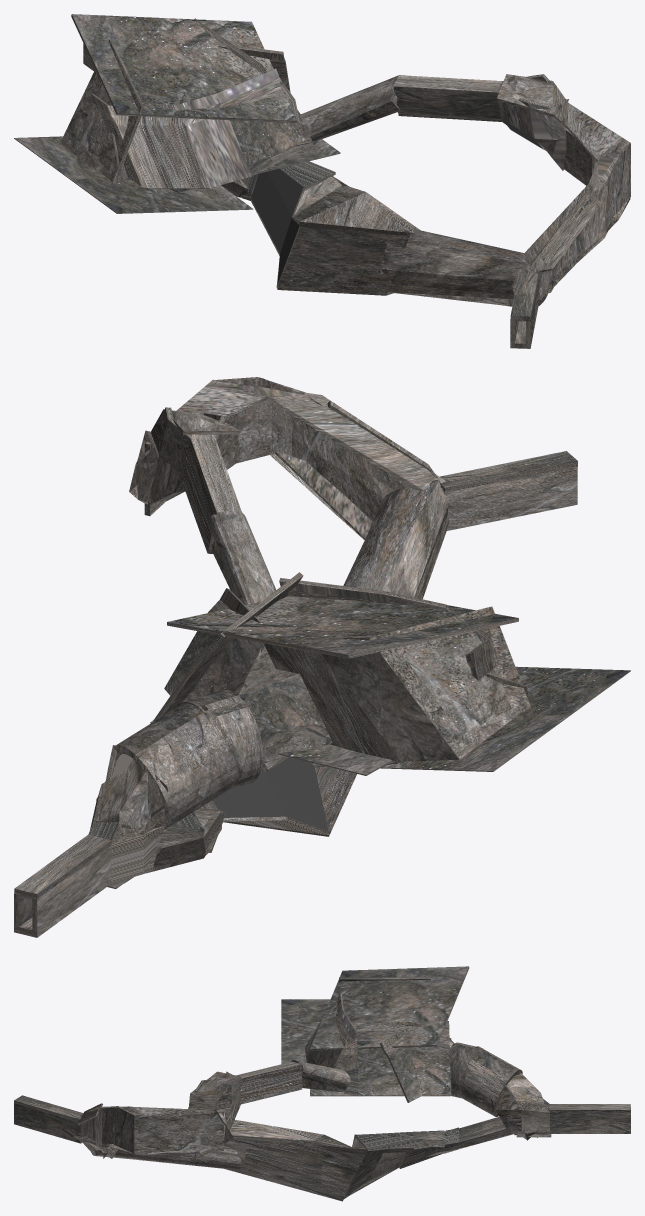
The model's file is room2v3.fbx.
The picture shows the model from 3 angles, top to bottom: view 1: azimuth 30°, elevation 25°; view 2: azimuth 150°, elevation 25°; view 3: azimuth 270°, elevation 25°; orthographic projection. The views are drawn at different scales.
Visible parts, largest first — view 1: Cube.023, Cube.020, Cylinder.004, Cube.022, Cube.012, Cube.024, Cube.025, Cube.016, Cube.028, Cube.026, Cylinder.001, Cube.013 (+6 smaller); view 2: Cube.028, Cube, Cube.023, Cylinder.002, Cube.027, Cylinder.004, Cube.022, Cube.025, Cube.031, Cube.024, Cube.030, Cube.013 (+10 smaller); view 3: Cube.023, Cube.026, Cube.012, Cube.018, Cube, Cube.022, Cylinder.002, Cube.024, Cube.031, Cube.016, Cube.025, Cylinder.004 (+10 smaller).
Boxes of the visible parts, x1,y1,x2,y2 form: Cube.023: (71,14,297,122); Cube.020: (90,68,318,188); Cylinder.004: (377,229,547,306); Cube.022: (393,74,568,170); Cube.012: (277,176,409,295); Cube.024: (14,136,253,213); Cube.025: (497,74,630,271); Cube.016: (292,175,420,237); Cube.028: (60,37,144,183); Cube.026: (538,141,630,299); Cylinder.001: (299,75,400,141); Cube.013: (236,169,304,287); Cube.028: (263,606,530,761); Cube: (14,745,168,937); Cube.023: (167,596,518,658); Cylinder.002: (113,699,243,829); Cube.027: (219,397,438,521); Cylinder.004: (343,479,448,599); Cube.022: (129,407,241,553); Cube.025: (151,379,445,491); Cube.031: (440,451,577,530); Cube.024: (311,666,630,771); Cube.030: (239,648,332,763); Cube.013: (206,757,328,853); Cube.023: (310,966,469,1050); Cube.026: (72,1106,223,1158); Cube.012: (224,1137,367,1201); Cube.018: (333,1021,450,1095); Cube: (496,1073,630,1137); Cube.022: (188,1062,302,1159); Cylinder.002: (460,1046,522,1116); Cube.024: (281,999,330,1064); Cube.031: (14,1095,83,1143); Cube.016: (230,1120,365,1148); Cube.025: (89,1071,241,1116); Cylinder.004: (82,1142,241,1169).
Bounding box in the file's own units: 4794 × 2580 × 8464.
